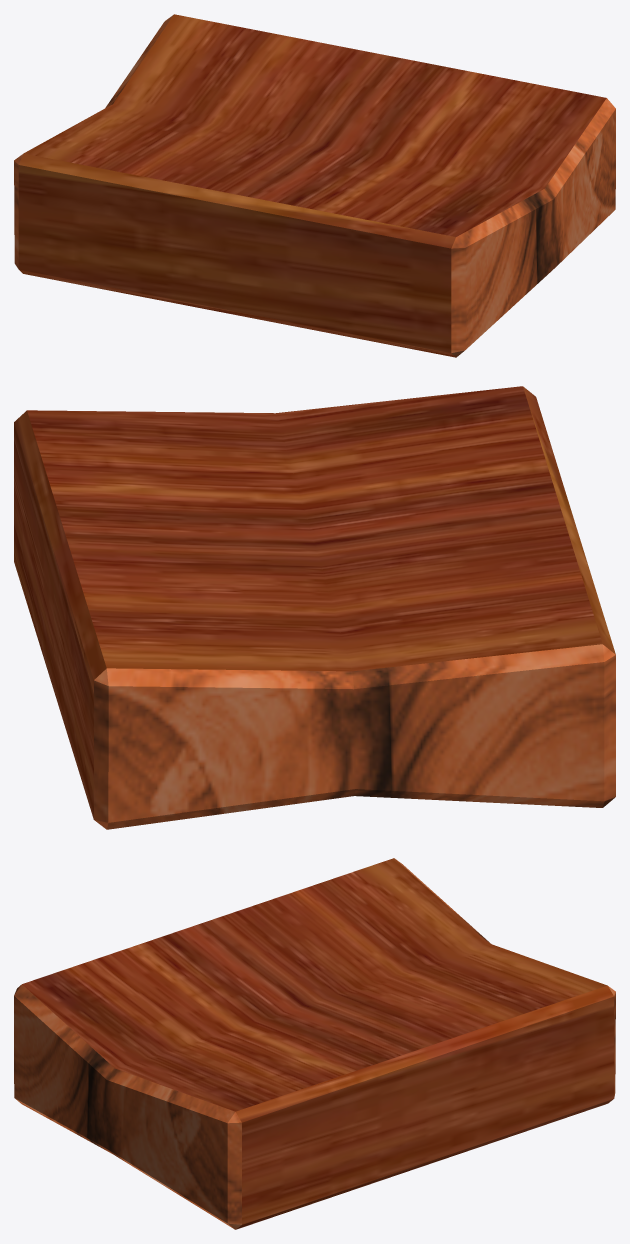
The model's file is yuandeng_D_saizi_01.FBX.
The picture shows the model from 3 angles, top to bottom: view 1: azimuth 30°, elevation 25°; view 2: azimuth 150°, elevation 25°; view 3: azimuth 270°, elevation 25°; orthographic projection. The views are drawn at different scales.
Visible parts, largest first — view 1: yuandeng_D_saizi_01; view 2: yuandeng_D_saizi_01; view 3: yuandeng_D_saizi_01.
Boxes of the visible parts, x1,y1,x2,y2 form: yuandeng_D_saizi_01: [14, 14, 615, 357]; yuandeng_D_saizi_01: [14, 386, 615, 829]; yuandeng_D_saizi_01: [14, 858, 615, 1229].
Bounding box in the file's own units: 3.67 × 0.8667 × 3.72.
2 materials, 2 textured.
